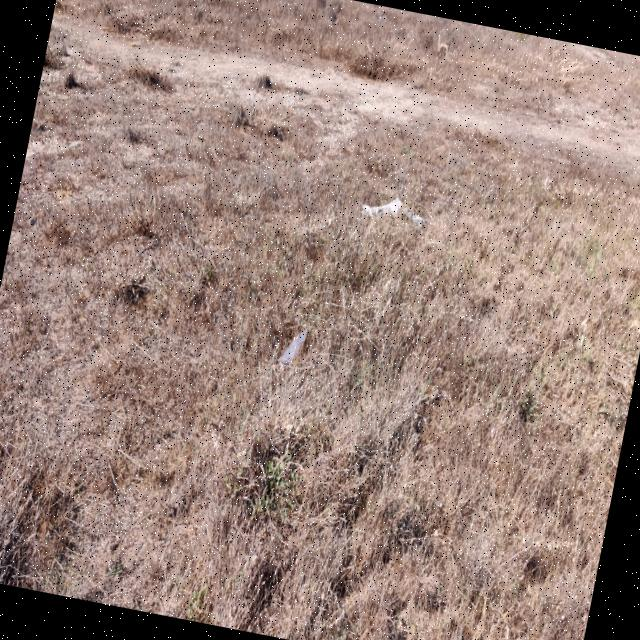Other plastic bottle: (278, 328, 309, 366)
Unlabeled litter: (362, 198, 423, 225)
